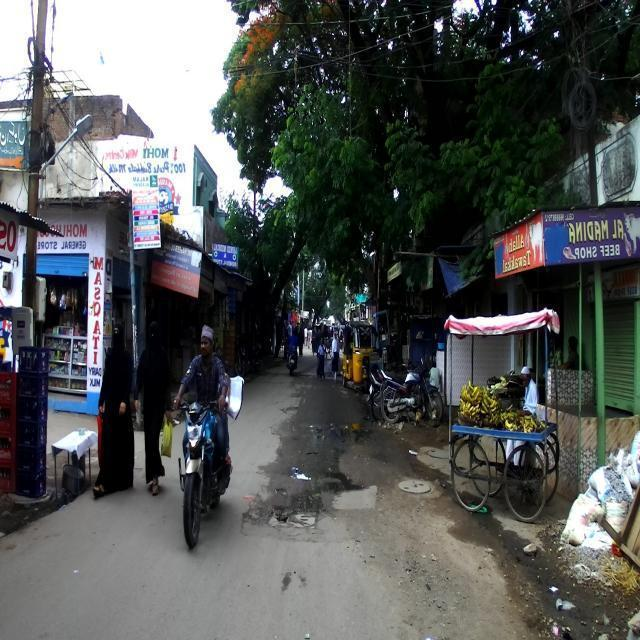Pothole: (397, 476, 433, 494)
